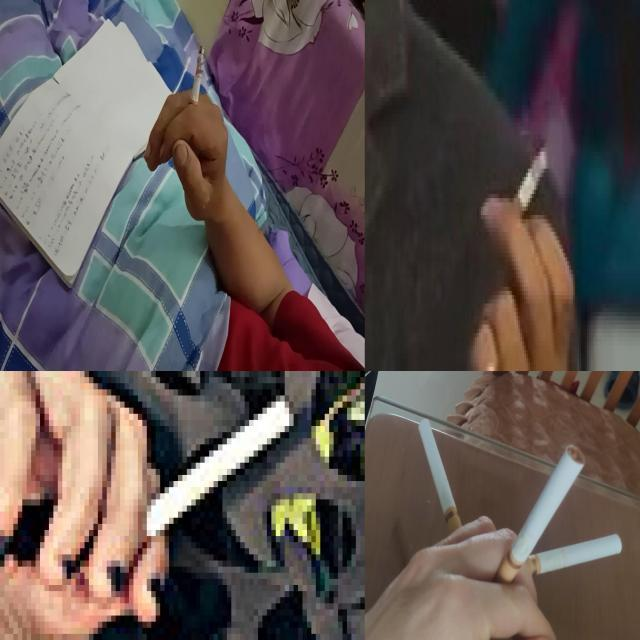cigarette: (121, 394, 296, 554), (488, 442, 588, 596), (418, 417, 470, 555), (506, 533, 624, 584), (508, 139, 550, 211), (184, 44, 206, 126)
